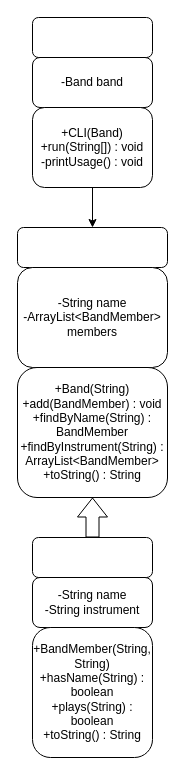
Image size: 185x775. Some labels were removed from this diagram. Here are the shapes that lost their labels. From the top down, the centre of each, then its label:
At [92,37]: "CLI".
At [92,247]: "Band".
At [92,557]: "BandMember".
